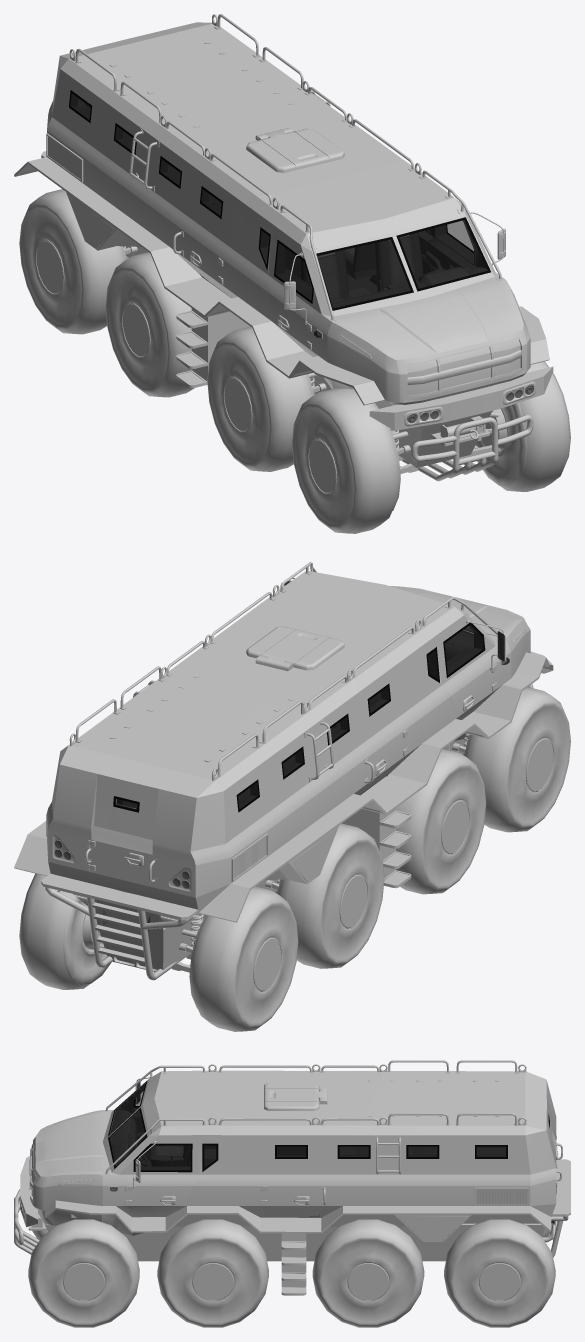
The picture shows the model from 3 angles, top to bottom: view 1: azimuth 30°, elevation 25°; view 2: azimuth 150°, elevation 25°; view 3: azimuth 270°, elevation 25°; orthographic projection. The views are drawn at different scales.
Parts seen in each view (by area): view 1: camo1, Glass, Camo2; view 2: camo1, Glass, Camo2; view 3: camo1, Glass, Camo2.
Part boxes in pixels (left/top/right/bottom): camo1: left=14, top=14, right=570, bottom=533; Glass: left=69, top=90, right=533, bottom=423; Camo2: left=70, top=93, right=487, bottom=308; camo1: left=14, top=562, right=570, bottom=1031; Glass: left=54, top=623, right=509, bottom=888; Camo2: left=103, top=625, right=483, bottom=930; camo1: left=14, top=1060, right=570, bottom=1327; Glass: left=20, top=1081, right=556, bottom=1217; Camo2: left=109, top=1084, right=554, bottom=1223.
Size of the model in its own units: 2.38 by 2.74 by 6.76.
